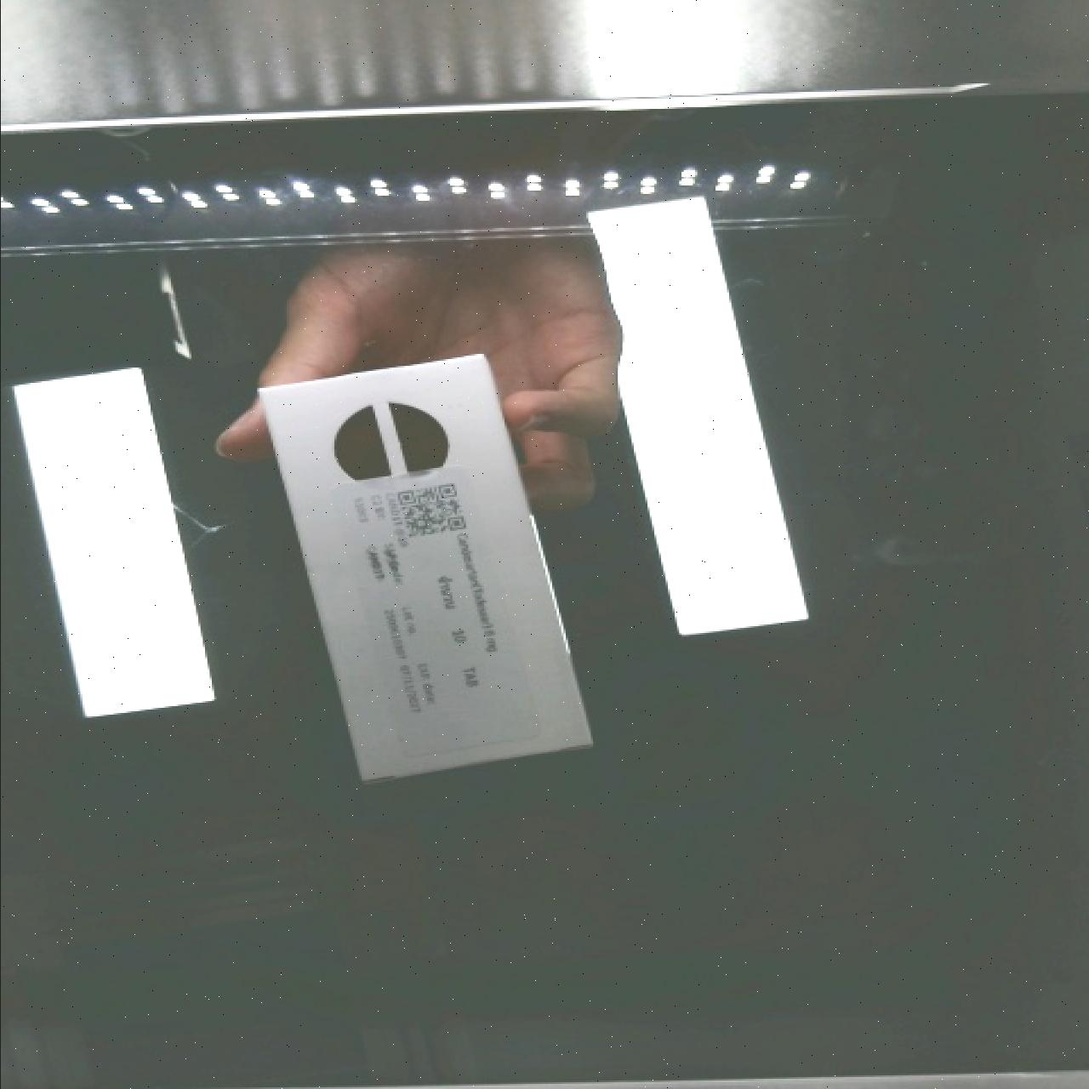qr_code: (375, 469, 485, 554)
